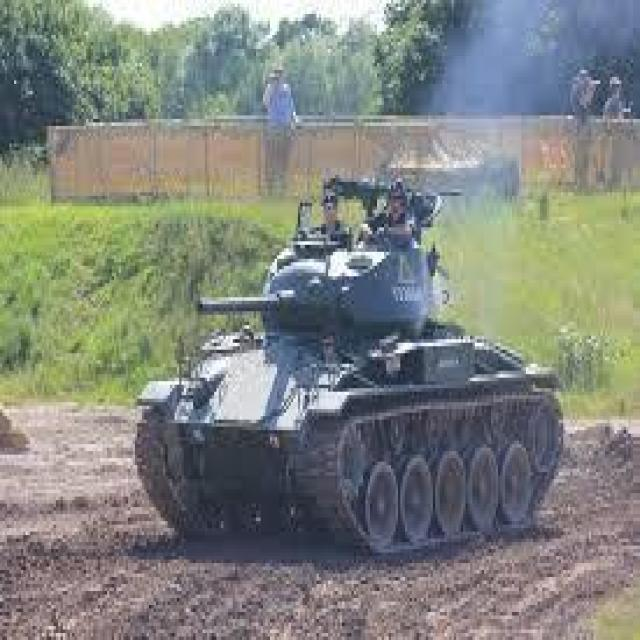Tanks: (130, 163, 575, 568)
